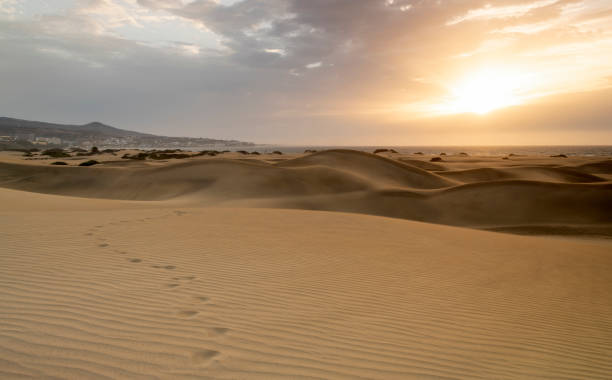human_footprint: (191, 349, 219, 365), (206, 327, 229, 337), (177, 310, 199, 317), (151, 265, 175, 269), (173, 276, 195, 280), (194, 296, 209, 301), (174, 210, 187, 215), (128, 258, 142, 262), (166, 283, 179, 287), (98, 242, 108, 247)
